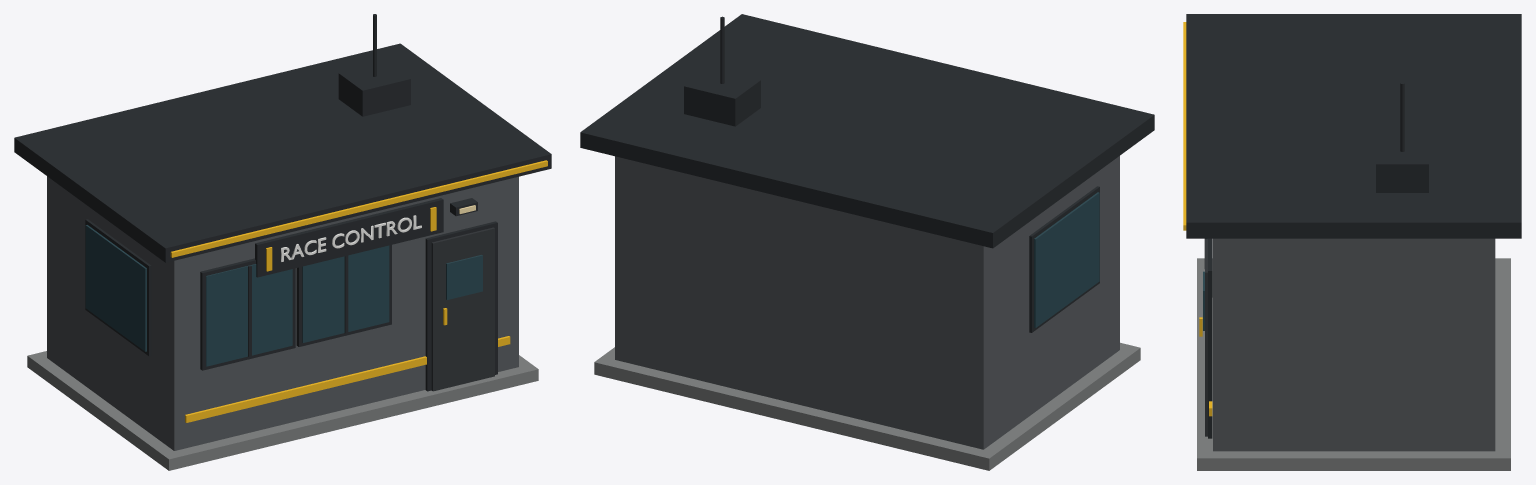
The model's file is small-building.glb.
3 views of the same model, side by side, from view 1: azimuth 30°, elevation 25°; view 2: azimuth 150°, elevation 25°; view 3: azimuth 270°, elevation 25° (orthographic). The views are drawn at different scales.
Parts seen in each view (by area): view 1: RaceControl_Roof, RaceControl_MainBuilding, RaceControl_Foundation, RaceControl_Door, RaceControl_WindowGlass_1, RaceControl_WindowGlass_2, RaceControl_SignPanel, RaceControl_SideWindowGlass, RaceControl_RoofEquipment, RaceControl_RoofYellowTrim, RaceControl_YellowStripe_Front, RaceControl_DoorFrame (+5 smaller); view 2: RaceControl_MainBuilding, RaceControl_Roof, RaceControl_Foundation, RaceControl_SideWindowGlass, RaceControl_RoofEquipment, RaceControl_SideWindowFrame; view 3: RaceControl_Roof, RaceControl_MainBuilding, RaceControl_Foundation, RaceControl_RoofEquipment, RaceControl_DoorFrame, RaceControl_RoofYellowTrim, RaceControl_Door.
Part boxes in pixels (bbox=[...]): RaceControl_Roof: bbox=[14, 43, 551, 262]; RaceControl_MainBuilding: bbox=[47, 176, 518, 450]; RaceControl_Foundation: bbox=[27, 351, 538, 470]; RaceControl_Door: bbox=[431, 227, 494, 391]; RaceControl_WindowGlass_1: bbox=[206, 264, 292, 366]; RaceControl_WindowGlass_2: bbox=[302, 245, 389, 342]; RaceControl_SignPanel: bbox=[255, 198, 443, 277]; RaceControl_SideWindowGlass: bbox=[85, 225, 146, 351]; RaceControl_RoofEquipment: bbox=[338, 61, 410, 116]; RaceControl_RoofYellowTrim: bbox=[170, 160, 547, 257]; RaceControl_YellowStripe_Front: bbox=[185, 336, 510, 422]; RaceControl_DoorFrame: bbox=[425, 221, 497, 391]; RaceControl_MainBuilding: bbox=[615, 156, 1119, 449]; RaceControl_Roof: bbox=[580, 14, 1154, 248]; RaceControl_Foundation: bbox=[594, 342, 1140, 470]; RaceControl_SideWindowGlass: bbox=[1034, 192, 1099, 327]; RaceControl_RoofEquipment: bbox=[684, 67, 760, 126]; RaceControl_SideWindowFrame: bbox=[1029, 186, 1099, 332]; RaceControl_Roof: bbox=[1186, 14, 1521, 238]; RaceControl_MainBuilding: bbox=[1213, 238, 1495, 451]; RaceControl_Foundation: bbox=[1197, 258, 1510, 470]; RaceControl_RoofEquipment: bbox=[1376, 138, 1428, 192]; RaceControl_DoorFrame: bbox=[1208, 238, 1212, 438]; RaceControl_RoofYellowTrim: bbox=[1183, 22, 1186, 230]; RaceControl_Door: bbox=[1205, 239, 1207, 436].
Bounding box in the file's own units: 5.6 × 4.37 × 3.83.
